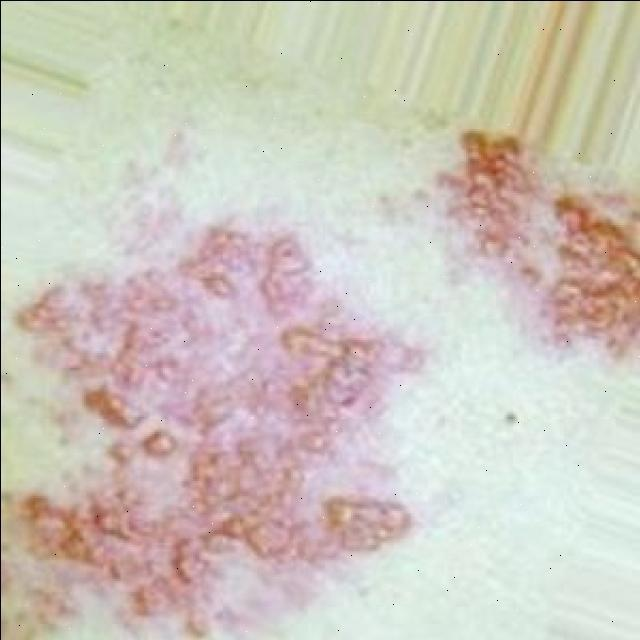Shingles: (9, 220, 424, 640), (418, 117, 640, 362)
